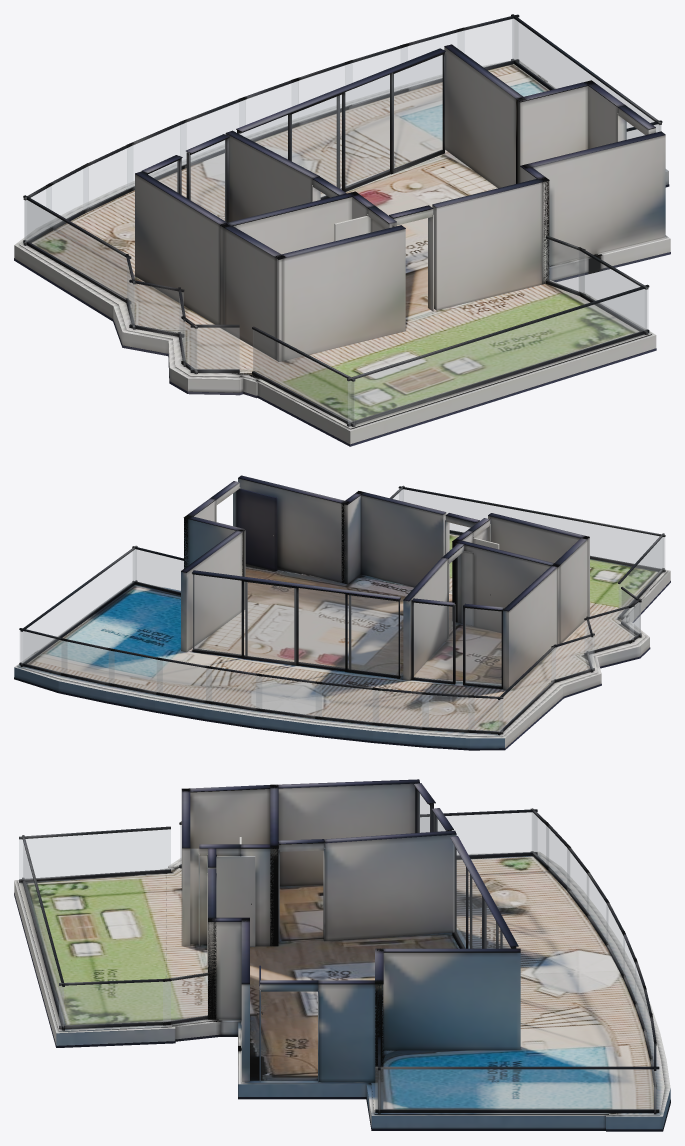
3 views of the same model, one above another, from view 1: azimuth 30°, elevation 25°; view 2: azimuth 150°, elevation 25°; view 3: azimuth 270°, elevation 25° (orthographic). The views are drawn at different scales.
Parts seen in each view (by area): view 1: plan, glass2_m, railg1_m, railg20_m, railg2_m, railg14_m, railg0_m, glass1_m, railg12_m, railg18_m, railg7_m, railg5_m (+9 smaller); view 2: plan, glass2_m, railg1_m, railg14_m, glass1_m, glass0_m, railg7_m, railg6_m, railg5_m, railg8_m, railg20_m, railg9_m (+10 smaller); view 3: plan, railg14_m, railg2_m, railg0_m, railg20_m, glass2_m, railg21_m, railg1_m, railg4_m, railg5_m, railg6_m, railg7_m (+2 smaller).
Boxes of the visible parts, <box> form: plan: <box>14,14,670,446</box>; glass2_m: <box>239,55,442,197</box>; railg1_m: <box>348,289,648,422</box>; railg20_m: <box>24,200,130,299</box>; railg2_m: <box>253,330,354,423</box>; railg14_m: <box>512,19,660,138</box>; railg0_m: <box>579,251,646,331</box>; glass1_m: <box>191,140,225,220</box>; railg12_m: <box>457,19,517,67</box>; railg18_m: <box>130,283,183,333</box>; railg7_m: <box>180,100,245,165</box>; railg5_m: <box>83,146,132,209</box>; plan: <box>14,475,670,750</box>; glass2_m: <box>193,574,398,675</box>; railg1_m: <box>399,489,664,569</box>; railg14_m: <box>21,549,136,663</box>; glass1_m: <box>414,603,452,681</box>; glass0_m: <box>465,608,501,686</box>; railg7_m: <box>256,676,321,716</box>; railg6_m: <box>316,684,378,722</box>; railg5_m: <box>373,690,428,727</box>; railg8_m: <box>206,668,261,708</box>; railg20_m: <box>499,648,555,732</box>; railg9_m: <box>157,660,211,701</box>; plan: <box>14,779,670,1131</box>; railg14_m: <box>375,1069,658,1109</box>; railg2_m: <box>19,829,170,879</box>; railg0_m: <box>59,981,170,1025</box>; railg20_m: <box>420,812,536,855</box>; glass2_m: <box>453,844,510,948</box>; railg21_m: <box>163,976,207,1021</box>; railg1_m: <box>23,843,63,1026</box>; railg4_m: <box>546,826,569,889</box>; railg5_m: <box>567,848,588,914</box>; railg6_m: <box>587,875,608,943</box>; railg7_m: <box>606,904,624,975</box>.
Bounding box in the file's own units: 13.31 × 2.62 × 13.7.
Materials: 2 (1 with a texture image).
